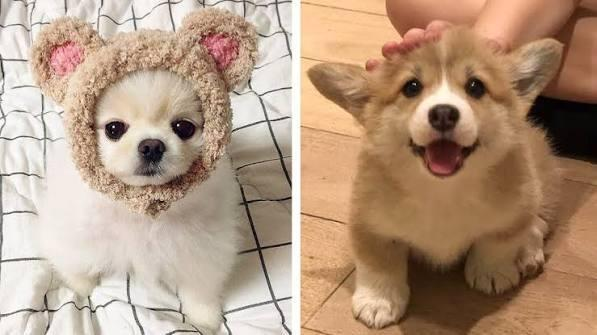adult_dog: (32, 8, 262, 333)
puppy-dog: (306, 22, 564, 329)
